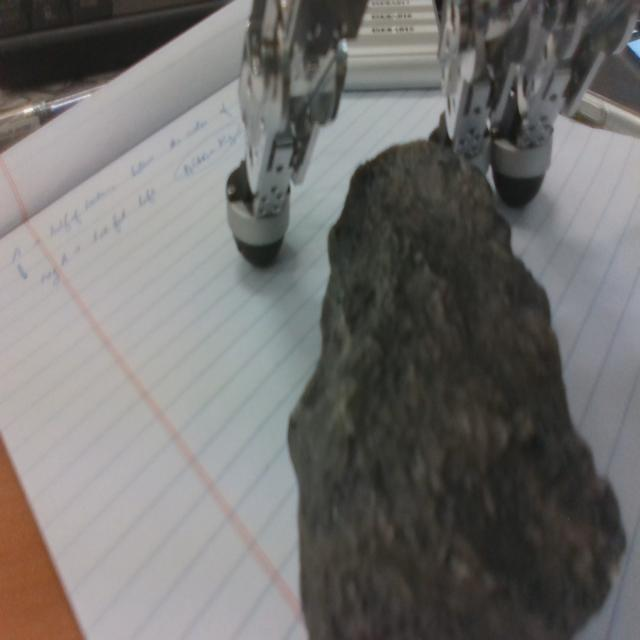stone: (285, 140, 627, 640)
